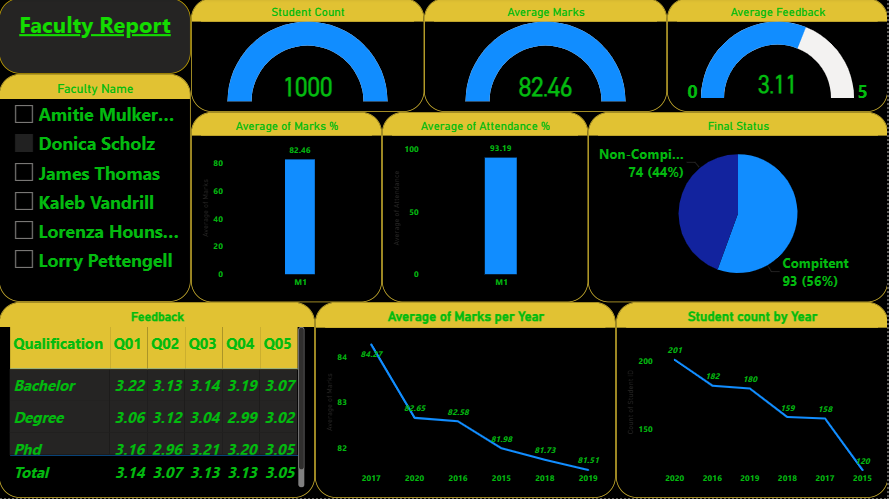

The dashboard page shown, as its layout file describes it:
{"tool":"powerbi","page":{"name":"Page 2","canvas":[1280,720],"ordinal":1},"visuals":[{"type":"textbox","box":[0,0,276.5,109.4],"z":0},{"type":"gauge","title":"Student Count","fields":{"Y":["CountNonNull(Student.Student ID)"]},"box":[276.5,0,335.5,164.2],"z":1000},{"type":"gauge","title":"Average Marks","fields":{"Y":["Avg(Attend.Marks)"]},"box":[612,0,349.9,164.2],"z":2000},{"type":"slicer","title":"Faculty Name","fields":{"Values":["Faculty.Name"]},"box":[0,109.4,276.5,328.3],"z":3000},{"type":"gauge","title":"Average Feedback","fields":{"Y":["Avg(Feedback.Average Feedback)"]},"box":[961.9,0,318.2,164.2],"z":4000},{"type":"columnChart","title":"Average of Marks %","fields":{"Category":["Attend.module ID"],"Y":["Avg(Attend.Marks)"]},"box":[276.5,164.2,275,273.6],"z":5000},{"type":"columnChart","title":"Average of Attendance  %","fields":{"Category":["Attend.module ID"],"Y":["Avg(Attend.Attendance )"]},"box":[551.5,164.2,296.6,273.6],"z":6000},{"type":"pieChart","title":"Final Status","fields":{"Category":["Attend.Result"],"Y":["Avg(Attend.Marks)"]},"box":[848.2,164.2,432,273.6],"z":7000},{"type":"tableEx","title":"Feedback","fields":{"Values":["SOC.Qualification","Avg(Feedback.Q01 - Professors teach well at this university?)","Avg(Feedback.Q02 - Teacher encourage us to perform better?)","Avg(Feedback.Q03 - I feel job-competent moving forward from this university?)","Avg(Feedback.Q04- Lecturers were proficient enough?)","Avg(Feedback.Q05 - I would like to recommend this educational institution to others?)"]},"box":[0,437.8,455,282.2],"z":8000},{"type":"lineChart","title":"Average of Marks per Year","fields":{"Y":["Avg(Attend.Marks)"],"Category":["Student.Year"]},"box":[455,437.8,433.4,282.2],"z":9000},{"type":"lineChart","title":"Student count by Year","fields":{"Category":["Student.Year"],"Y":["CountNonNull(Student.Student ID)"]},"box":[888.5,437.8,391.7,282.2],"z":10000}]}

Visuals, with their boxes in screenshot pixels (x1, y1, x2, y2), scaled from the page's 1280x720 canvas onto the 893x502 screenshot:
textbox: bbox(0, 0, 193, 76)
"Student Count" gauge: bbox(193, 0, 427, 114)
"Average Marks" gauge: bbox(427, 0, 671, 114)
"Faculty Name" slicer: bbox(0, 76, 193, 305)
"Average Feedback" gauge: bbox(671, 0, 892, 114)
"Average of Marks %" columnChart: bbox(193, 114, 385, 305)
"Average of Attendance  %" columnChart: bbox(385, 114, 592, 305)
"Final Status" pieChart: bbox(592, 114, 892, 305)
"Feedback" tableEx: bbox(0, 305, 317, 501)
"Average of Marks per Year" lineChart: bbox(317, 305, 620, 501)
"Student count by Year" lineChart: bbox(620, 305, 892, 501)
